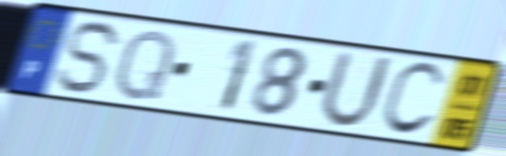1: (218, 37, 260, 116)
8: (247, 45, 309, 119)
C: (376, 59, 448, 140)
Q: (112, 26, 179, 103)
S: (51, 18, 129, 97)
U: (315, 47, 396, 133)
